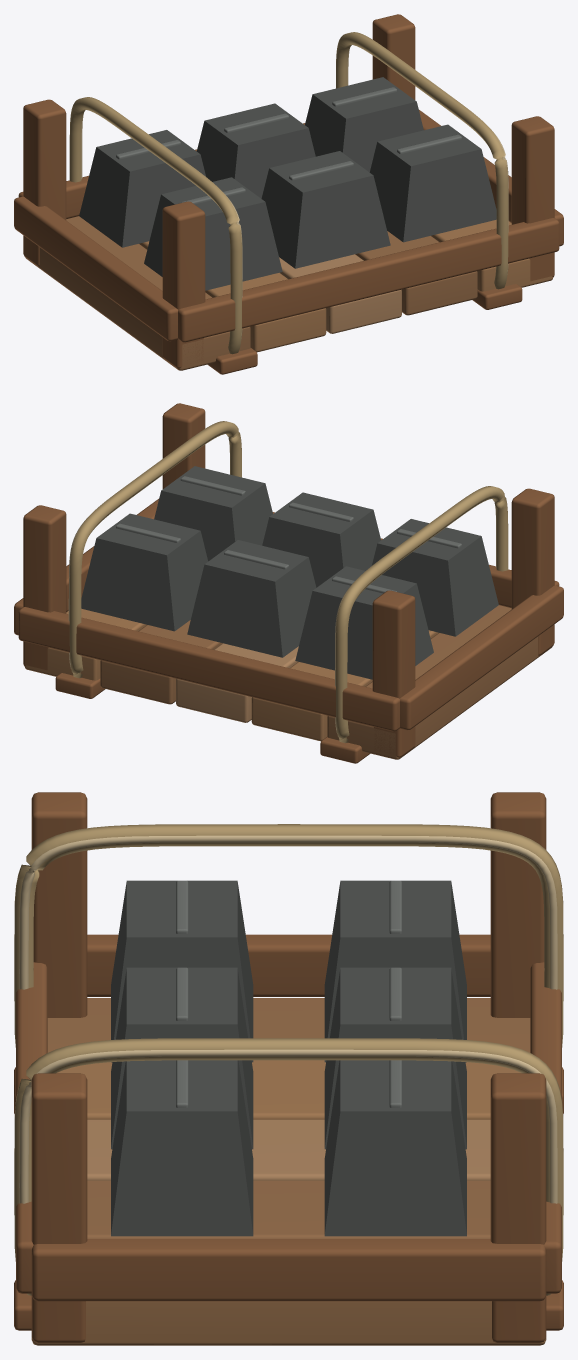
File: iron.glb
3 renders of one model, top to bottom at view 1: azimuth 30°, elevation 25°; view 2: azimuth 150°, elevation 25°; view 3: azimuth 270°, elevation 25°, orthographic. The views are drawn at different scales.
Parts seen in each view (by area): view 1: Cargo_iron; view 2: Cargo_iron; view 3: Cargo_iron.
Part boxes in pixels (<box>): Cargo_iron: <box>14,14,563,374</box>; Cargo_iron: <box>14,403,563,763</box>; Cargo_iron: <box>14,792,563,1345</box>.
Bounding box in the file's own units: 0.955 × 0.3942 × 0.695.
